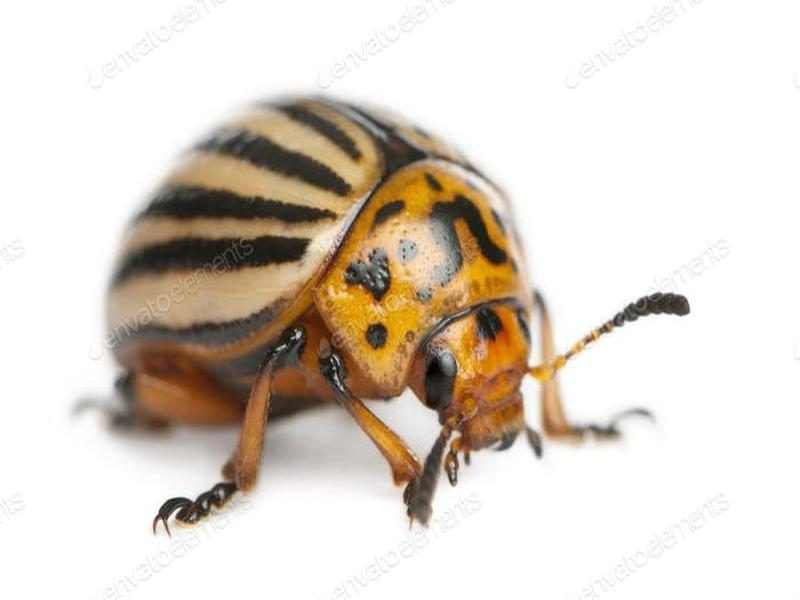hrosc: (102, 86, 581, 519)
